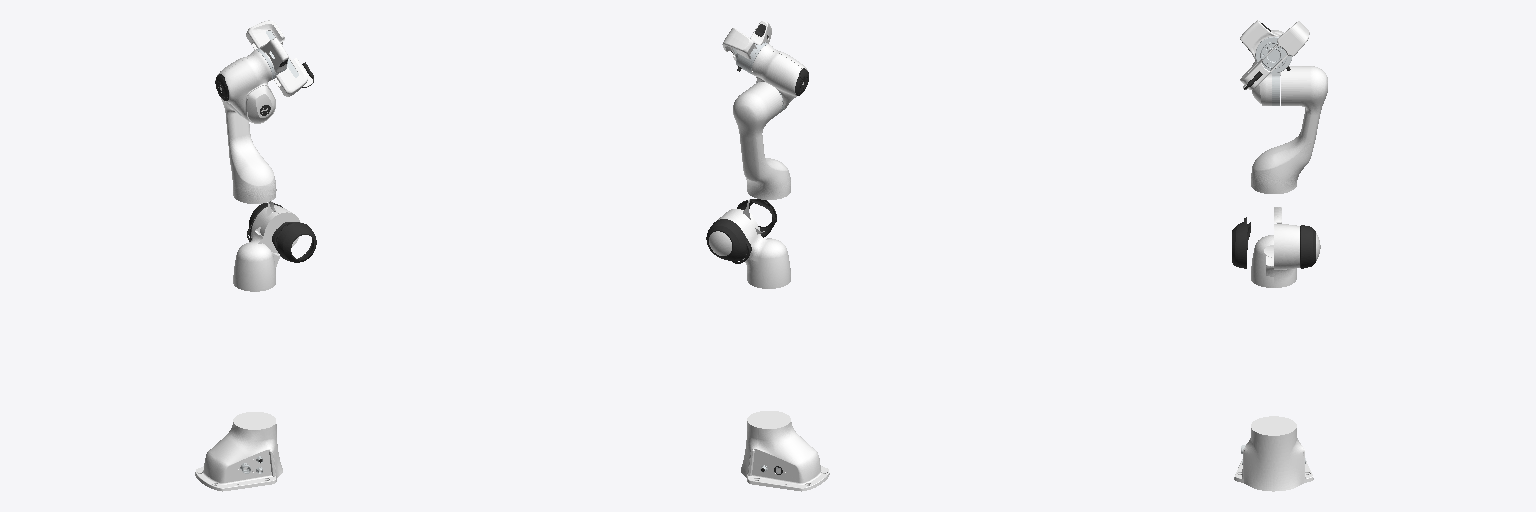
robot.urdf — panda:
<?xml version="1.0" ?>
<!-- =================================================================================== -->
<!-- |    This document was autogenerated by xacro from panda_arm_hand.urdf.xacro      | -->
<!-- |    EDITING THIS FILE BY HAND IS NOT RECOMMENDED                                 | -->
<!-- =================================================================================== -->
<robot name="panda" xmlns:xacro="http://www.ros.org/wiki/xacro">
  <link name="panda_link0">
    <visual>
      <geometry>
        <mesh filename="package://franka_description/meshes/visual/link0.dae"/>
      </geometry>
    </visual>
    <collision>
      <geometry>
        <mesh filename="package://franka_description/meshes/collision/link0.stl"/>
      </geometry>
    </collision>
  </link>
  <link name="panda_link1">
    <visual>
      <geometry>
        <mesh filename="package://franka_description/meshes/visual/link1.dae"/>
      </geometry>
    </visual>
    <collision>
      <geometry>
        <mesh filename="package://franka_description/meshes/collision/link1.stl"/>
      </geometry>
    </collision>
  </link>
  <joint name="panda_joint1" type="revolute">
    <safety_controller k_position="100.0" k_velocity="40.0" soft_lower_limit="-2.8099" soft_upper_limit="2.8099"/>
    <origin rpy="0 0 0" xyz="0 0 0.333"/>
    <parent link="panda_link0"/>
    <child link="panda_link1"/>
    <axis xyz="0 0 1"/>
    <limit effort="87" lower="-2.8099" upper="2.8099" velocity="2.1750"/>
  </joint>
  <link name="panda_link2">
    <visual>
      <geometry>
        <mesh filename="package://franka_description/meshes/visual/link2.dae"/>
      </geometry>
    </visual>
    <collision>
      <geometry>
        <mesh filename="package://franka_description/meshes/collision/link2.stl"/>
      </geometry>
    </collision>
  </link>
  <joint name="panda_joint2" type="revolute">
    <safety_controller k_position="100.0" k_velocity="40.0" soft_lower_limit="-1.6755" soft_upper_limit="1.6755"/>
    <origin rpy="-1.57079632679 0 0" xyz="0 0 0"/>
    <parent link="panda_link1"/>
    <child link="panda_link2"/>
    <axis xyz="0 0 1"/>
    <limit effort="87" lower="-1.6755" upper="1.6755" velocity="2.1750"/>
  </joint>
  <link name="panda_link3">
    <visual>
      <geometry>
        <mesh filename="package://franka_description/meshes/visual/link3.dae"/>
      </geometry>
    </visual>
    <collision>
      <geometry>
        <mesh filename="package://franka_description/meshes/collision/link3.stl"/>
      </geometry>
    </collision>
  </link>
  <joint name="panda_joint3" type="revolute">
    <safety_controller k_position="100.0" k_velocity="40.0" soft_lower_limit="-2.8099" soft_upper_limit="2.8099"/>
    <origin rpy="1.57079632679 0 0" xyz="0 -0.316 0"/>
    <parent link="panda_link2"/>
    <child link="panda_link3"/>
    <axis xyz="0 0 1"/>
    <limit effort="87" lower="-2.8099" upper="2.8099" velocity="2.1750"/>
  </joint>
  <link name="panda_link4">
    <visual>
      <geometry>
        <mesh filename="package://franka_description/meshes/visual/link4.dae"/>
      </geometry>
    </visual>
    <collision>
      <geometry>
        <mesh filename="package://franka_description/meshes/collision/link4.stl"/>
      </geometry>
    </collision>
  </link>
  <joint name="panda_joint4" type="revolute">
    <safety_controller k_position="100.0" k_velocity="40.0" soft_lower_limit="-2.9845" soft_upper_limit="0.0174"/>
    <origin rpy="1.57079632679 0 0" xyz="0.0825 0 0"/>
    <parent link="panda_link3"/>
    <child link="panda_link4"/>
    <axis xyz="0 0 1"/>
    <limit effort="87" lower="-2.9845" upper="0.0174" velocity="2.1750"/>
  </joint>
  <link name="panda_link5">
    <visual>
      <geometry>
        <mesh filename="package://franka_description/meshes/visual/link5.dae"/>
      </geometry>
    </visual>
    <collision>
      <geometry>
        <mesh filename="package://franka_description/meshes/collision/link5.stl"/>
      </geometry>
    </collision>
  </link>
  <joint name="panda_joint5" type="revolute">
    <safety_controller k_position="100.0" k_velocity="40.0" soft_lower_limit="-2.8099" soft_upper_limit="2.8099"/>
    <origin rpy="-1.57079632679 0 0" xyz="-0.0825 0.384 0"/>
    <parent link="panda_link4"/>
    <child link="panda_link5"/>
    <axis xyz="0 0 1"/>
    <limit effort="12" lower="-2.8099" upper="2.8099" velocity="2.6100"/>
  </joint>
  <link name="panda_link6">
    <visual>
      <geometry>
        <mesh filename="package://franka_description/meshes/visual/link6.dae"/>
      </geometry>
    </visual>
    <collision>
      <geometry>
        <mesh filename="package://franka_description/meshes/collision/link6.stl"/>
      </geometry>
    </collision>
  </link>
  <joint name="panda_joint6" type="revolute">
    <safety_controller k_position="100.0" k_velocity="40.0" soft_lower_limit="0.06981" soft_upper_limit="3.6651"/>
    <origin rpy="1.57079632679 0 0" xyz="0 0 0"/>
    <parent link="panda_link5"/>
    <child link="panda_link6"/>
    <axis xyz="0 0 1"/>
    <limit effort="12" lower="0.06981" upper="3.6651" velocity="2.6100"/>
  </joint>
  <link name="panda_link7">
    <visual>
      <geometry>
        <mesh filename="package://franka_description/meshes/visual/link7.dae"/>
      </geometry>
    </visual>
    <collision>
      <geometry>
        <mesh filename="package://franka_description/meshes/collision/link7.stl"/>
      </geometry>
    </collision>
  </link>
  <joint name="panda_joint7" type="revolute">
    <safety_controller k_position="100.0" k_velocity="40.0" soft_lower_limit="-2.8099" soft_upper_limit="2.8099"/>
    <origin rpy="1.57079632679 0 0" xyz="0.088 0 0"/>
    <parent link="panda_link6"/>
    <child link="panda_link7"/>
    <axis xyz="0 0 1"/>
    <limit effort="12" lower="-2.8099" upper="2.8099" velocity="2.6100"/>
  </joint>
  <link name="panda_link8"/>
  <joint name="panda_joint8" type="fixed">
    <origin rpy="3.14159265359 0 0" xyz="-0.0038 -0.0018 0.1275"/>
    <parent link="panda_link7"/>
    <child link="panda_link8"/>
    <axis xyz="0 0 0"/>
  </joint>
  <joint name="panda_hand_joint" type="fixed">
    <parent link="panda_link8"/>
    <child link="panda_hand"/>
    <origin rpy="0 0 -0.785398163397" xyz="0 0 0"/>
  </joint>
  <link name="panda_hand">
    <visual>
      <geometry>
        <mesh filename="package://franka_description/meshes/visual/hand.dae"/>
      </geometry>
    </visual>
    <collision>
      <geometry>
        <mesh filename="package://franka_description/meshes/collision/hand.stl"/>
      </geometry>
    </collision>
  </link>
  <link name="panda_leftfinger">
    <visual>
      <geometry>
        <mesh filename="package://franka_description/meshes/visual/finger.dae"/>
      </geometry>
    </visual>
    <collision>
      <geometry>
        <mesh filename="package://franka_description/meshes/collision/finger.stl"/>
      </geometry>
    </collision>
  </link>
  <link name="panda_rightfinger">
    <visual>
      <origin rpy="0 0 3.14159265359" xyz="0 0 0"/>
      <geometry>
        <mesh filename="package://franka_description/meshes/visual/finger.dae"/>
      </geometry>
    </visual>
    <collision>
      <origin rpy="0 0 3.14159265359" xyz="0 0 0"/>
      <geometry>
        <mesh filename="package://franka_description/meshes/collision/finger.stl"/>
      </geometry>
    </collision>
  </link>
  <joint name="panda_finger_joint1" type="prismatic">
    <parent link="panda_hand"/>
    <child link="panda_leftfinger"/>
    <origin rpy="0 0 0" xyz="0 0 0.0584"/>
    <axis xyz="0 1 0"/>
    <limit effort="20" lower="0.0" upper="0.04" velocity="0.2"/>
  </joint>
  <joint name="panda_finger_joint2" type="prismatic">
    <parent link="panda_hand"/>
    <child link="panda_rightfinger"/>
    <origin rpy="0 0 0" xyz="0 0 0.0584"/>
    <axis xyz="0 -1 0"/>
    <limit effort="20" lower="0.0" upper="0.04" velocity="0.2"/>
    <mimic joint="panda_finger_joint1"/>
  </joint>
</robot>

--- Render facts (derived) ---
The picture shows the robot from 3 angles, left to right: view 1: azimuth 30°, elevation 25°; view 2: azimuth 150°, elevation 25°; view 3: azimuth 270°, elevation 25°; orthographic projection.
Model panda with 12 links and 11 joints (7 revolute, 2 prismatic, 2 fixed), rooted at panda_link0, posed joints at zero except 1 at the middle of their limits (panda_joint6 = 1.87).
Links seen in each view (by area): view 1: panda_link0, panda_link3, panda_link5, panda_link6, panda_hand, panda_link4, panda_link7; view 2: panda_link0, panda_link5, panda_link3, panda_link6, panda_link7, panda_hand; view 3: panda_link5, panda_link0, panda_link3, panda_link7, panda_hand, panda_link4, panda_link6.
Boxes of the visible links, bbox=[...] form: panda_link0: bbox=[195, 412, 282, 491]; panda_link3: bbox=[233, 203, 300, 291]; panda_link5: bbox=[221, 98, 276, 203]; panda_link6: bbox=[215, 50, 275, 123]; panda_hand: bbox=[246, 20, 313, 96]; panda_link4: bbox=[255, 201, 316, 262]; panda_link7: bbox=[256, 38, 288, 79]; panda_link0: bbox=[741, 411, 829, 491]; panda_link5: bbox=[733, 82, 790, 199]; panda_link3: bbox=[706, 209, 790, 288]; panda_link6: bbox=[751, 44, 808, 112]; panda_link7: bbox=[736, 21, 771, 73]; panda_hand: bbox=[722, 28, 756, 60]; panda_link5: bbox=[1251, 66, 1327, 193]; panda_link0: bbox=[1234, 416, 1313, 491]; panda_link3: bbox=[1251, 224, 1320, 287]; panda_link7: bbox=[1240, 20, 1291, 72]; panda_hand: bbox=[1240, 21, 1309, 89]; panda_link4: bbox=[1232, 207, 1281, 268]; panda_link6: bbox=[1252, 30, 1283, 105].
Size in the robot's own frame: 0.2936 by 0.2309 by 1.23 metres.
7 mesh visuals loaded from 10 distinct referenced files (7 Collada DAE); not drawn: 4 (reference not matched to a file when rendering).